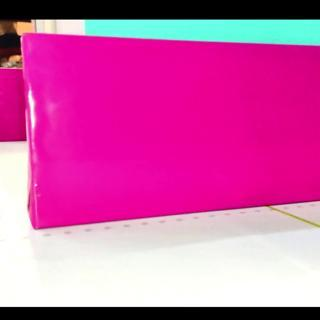xparking: (35, 48, 319, 235), (2, 75, 22, 141)
